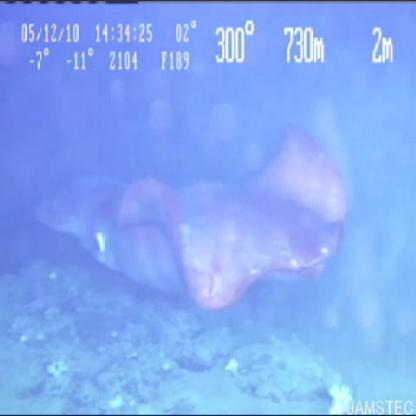Bio: (28, 114, 354, 319)
